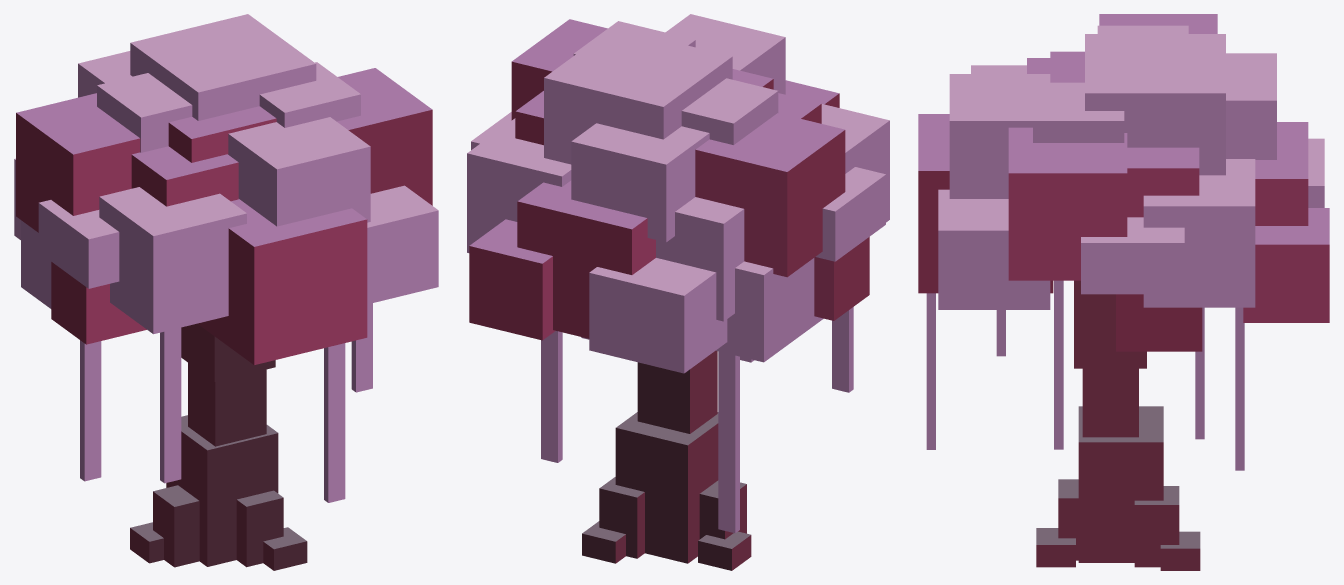
The model's file is Tree_CherryBlossom.fbx.
3 views of the same model, side by side, from view 1: azimuth 30°, elevation 25°; view 2: azimuth 150°, elevation 25°; view 3: azimuth 270°, elevation 25° (orthographic). The views are drawn at different scales.
Parts seen in each view (by area): view 1: Tree_CherryBlossom; view 2: Tree_CherryBlossom; view 3: Tree_CherryBlossom.
Part boxes in pixels (<box>): Tree_CherryBlossom: <box>14,14,438,570</box>; Tree_CherryBlossom: <box>467,14,889,570</box>; Tree_CherryBlossom: <box>918,14,1329,570</box>.
Bounding box in the file's own units: 371 × 494 × 376.
